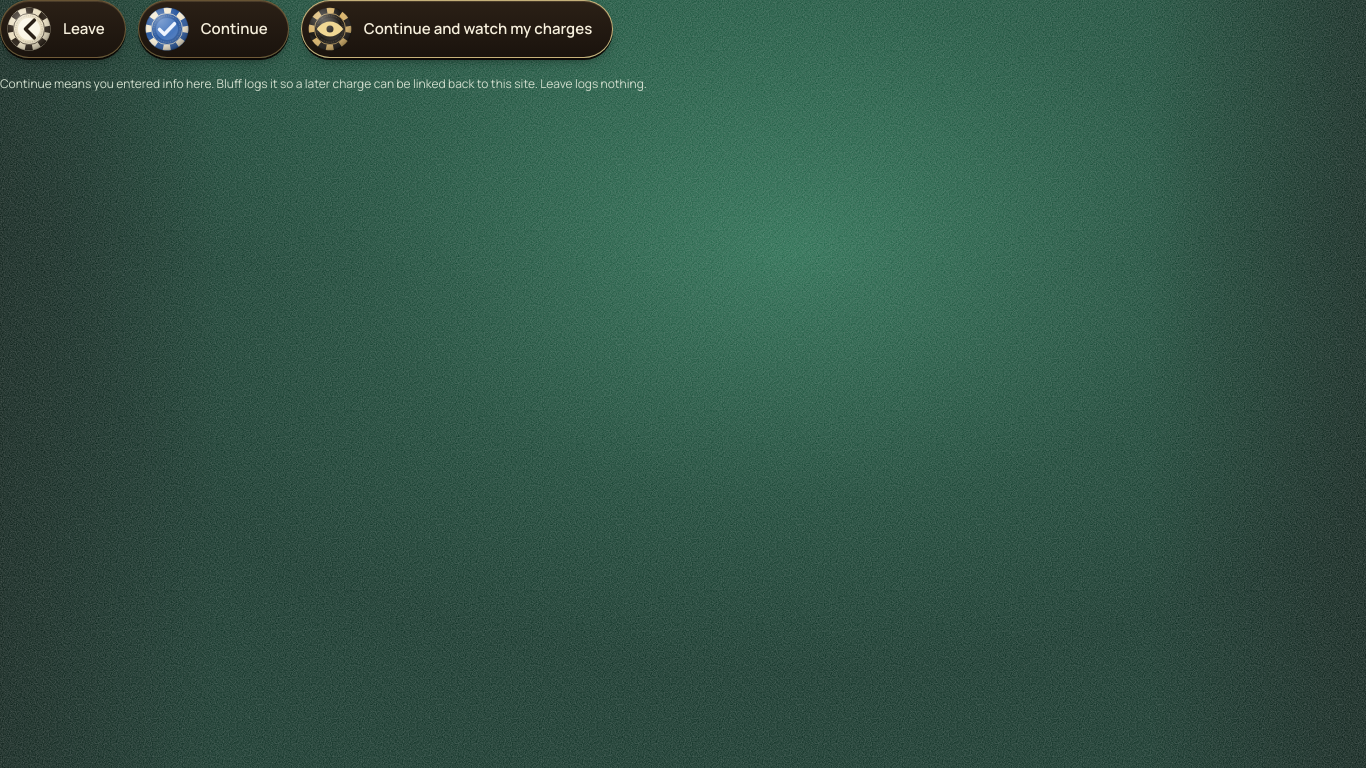
Test case: ExposureActions (chips you press) › only a real, successful log places the chip; a failure keeps the chips and shows the error
This screenshot has width=1366, height=768.
Click the button "Continue and watch my charges".
click(457, 29)  # box [301,0,613,58]
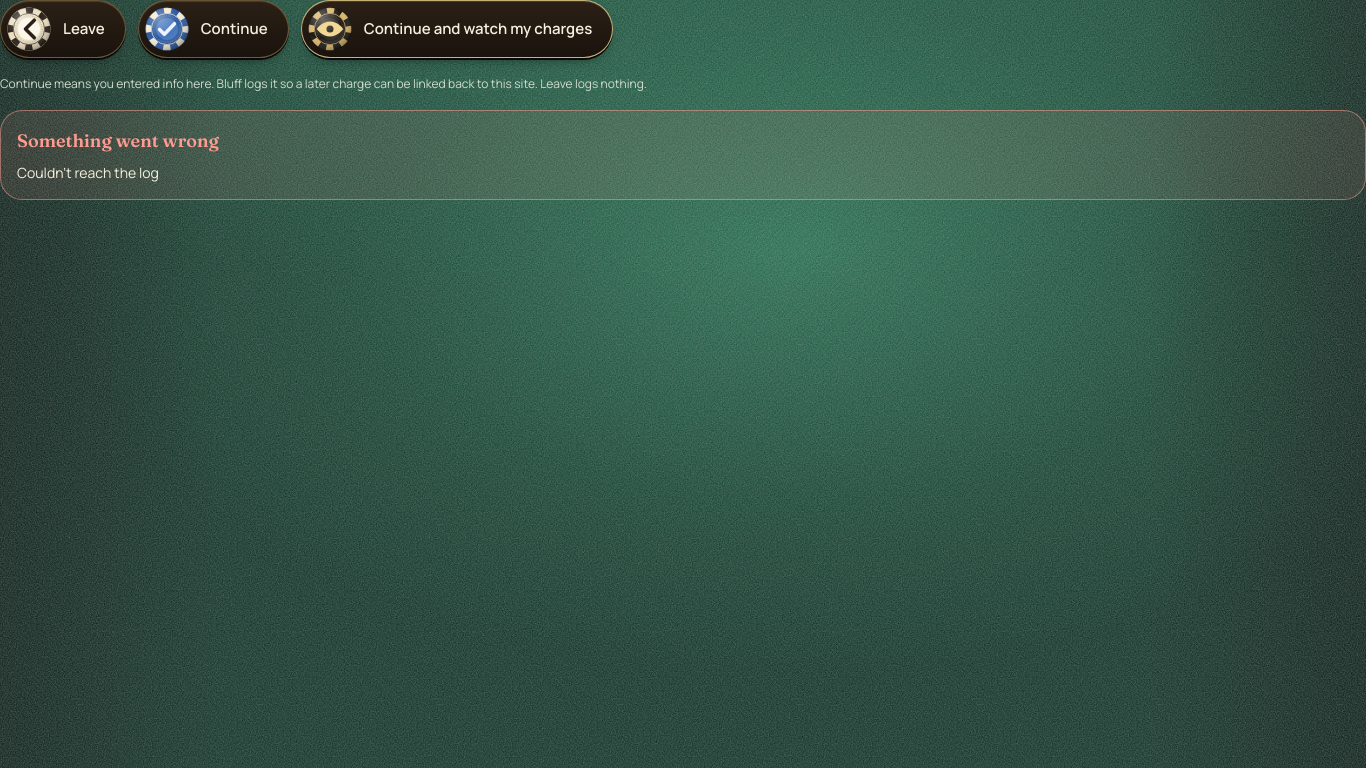
Expected: the button "Continue" is enabled, [138,0,289,58]
Expected: the message shows "Couldn't reach the log", [17,162,159,182]
Click the button "Continue and watch my charges".
click(457, 29)  # box [301,0,613,58]
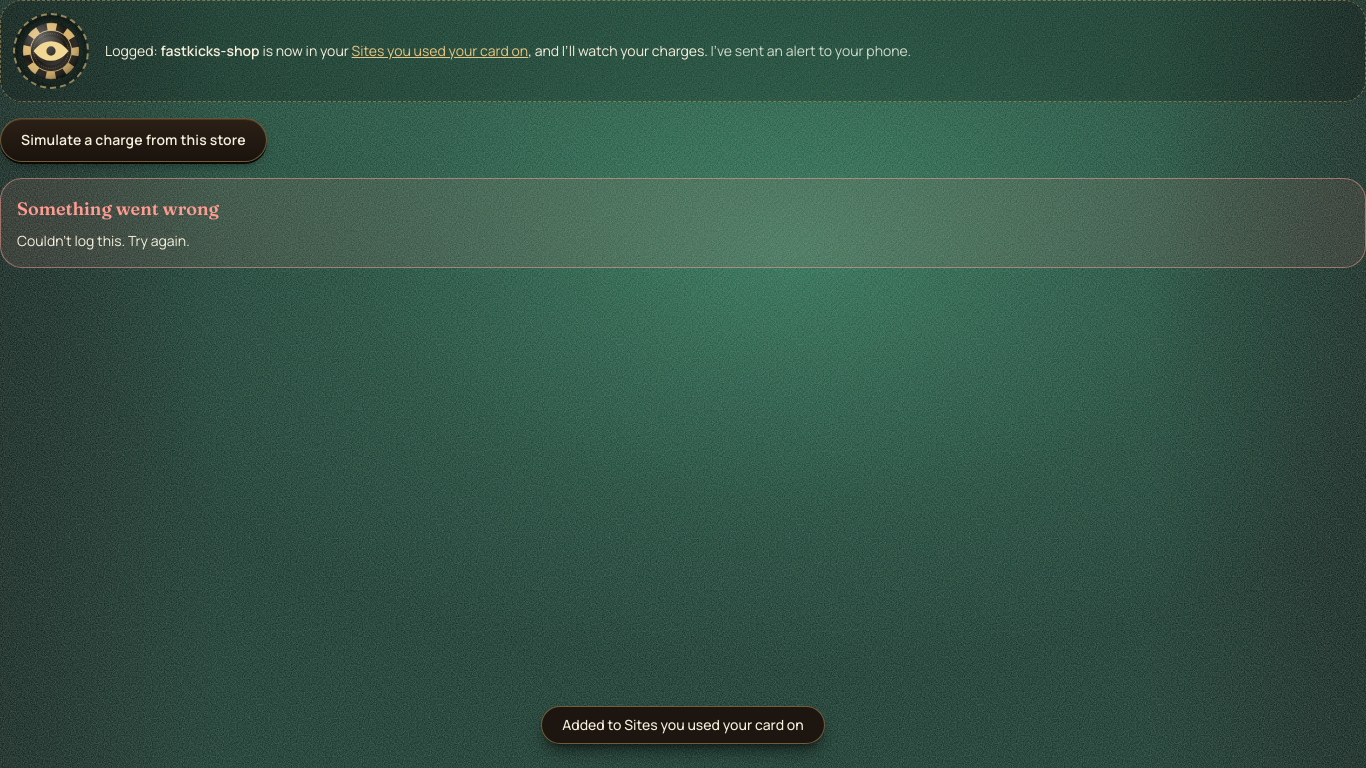
Expected: the message that starts with "Logged:" shows "I’ll watch your charges", [528,41,708,60]
Expected: the element with class "chip-place" is shown, [22,22,80,80]
Expected: the button "Simulate a charge from this store" is shown, [0,118,267,162]
